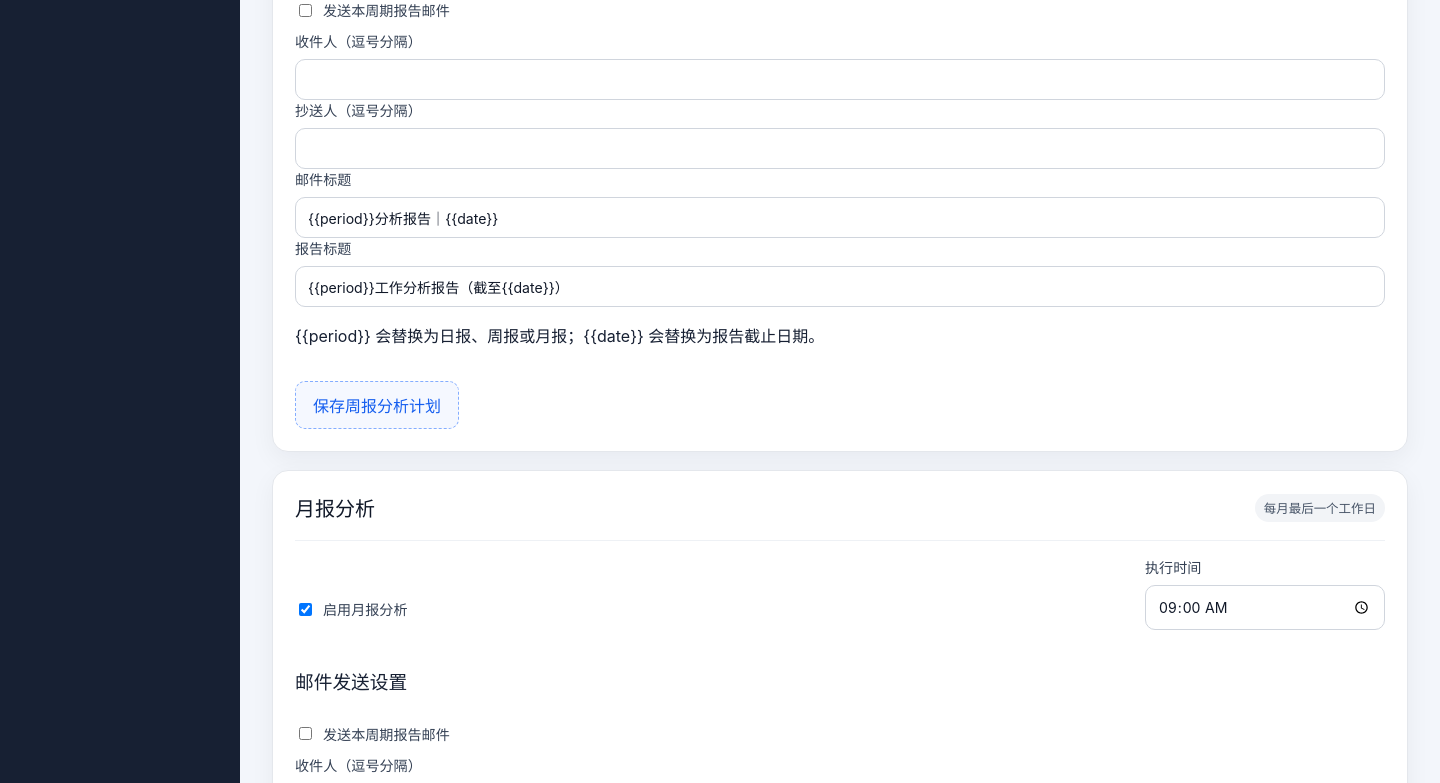
Test: AdminRunScheduleView › only shows a save result in the schedule card that was saved
(page scrolled)
Step 1. Click the button "保存周报分析计划" → (377, 405), box left=295, top=381, right=459, bottom=429
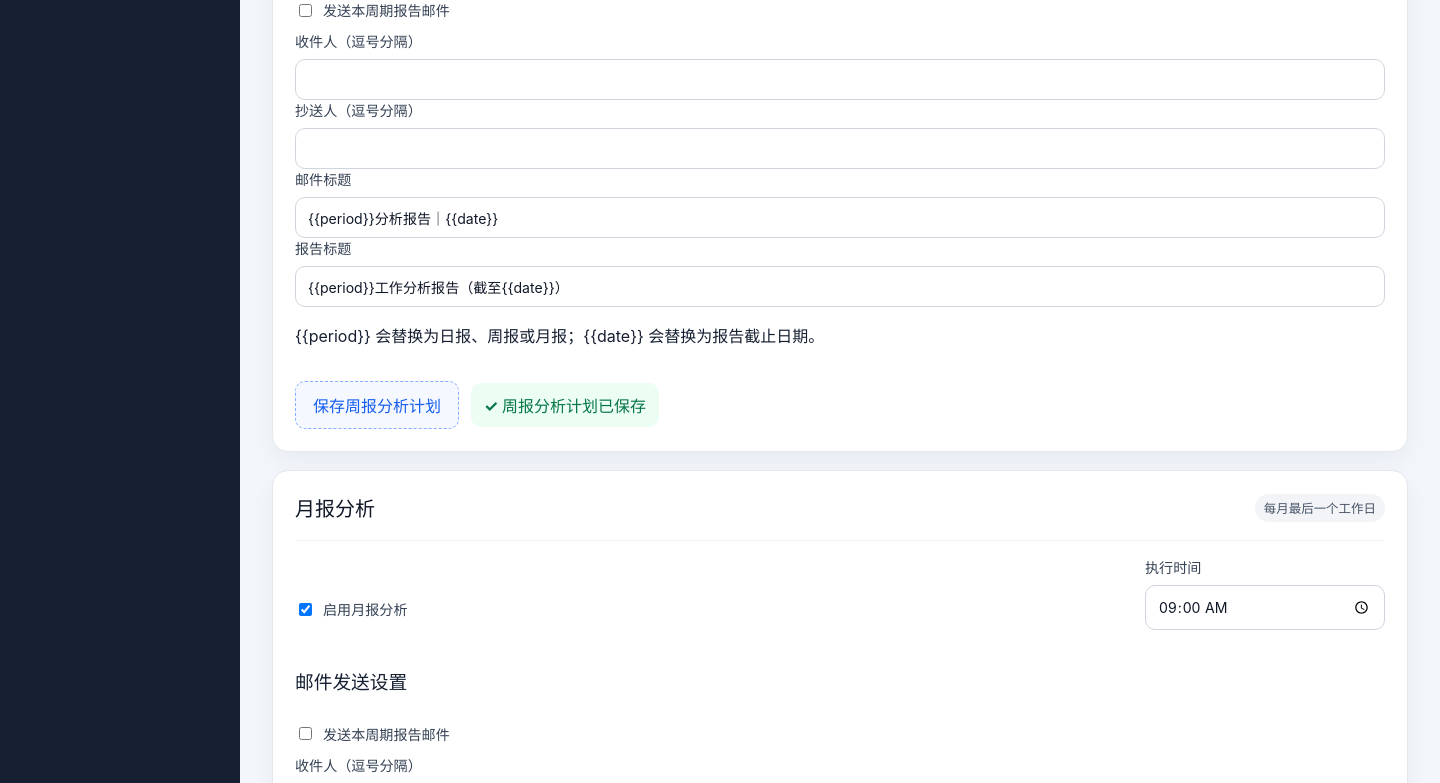
Result: the number of messages is 1 at left=471, top=383, right=659, bottom=427
Result: the message "✓ 周报分析计划已保存" is shown at left=471, top=383, right=659, bottom=427
